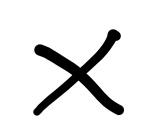mult: (33, 30, 125, 118)
